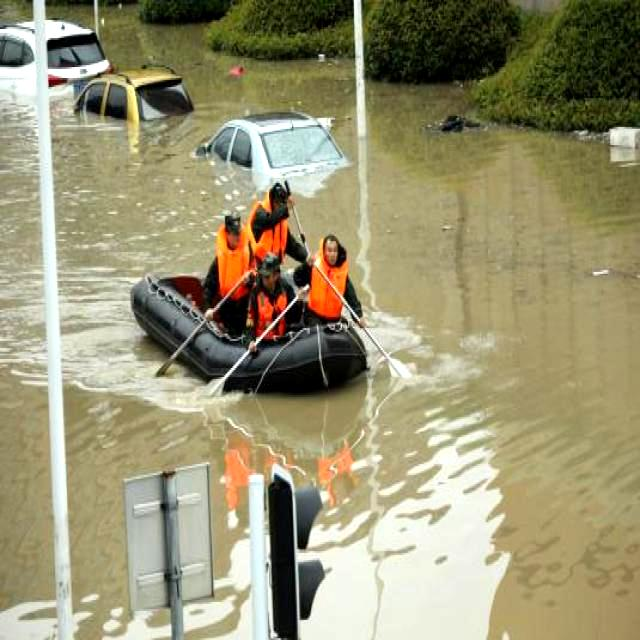rescuer: (200, 199, 255, 336), (300, 225, 361, 330), (241, 247, 294, 350), (251, 175, 304, 268)
